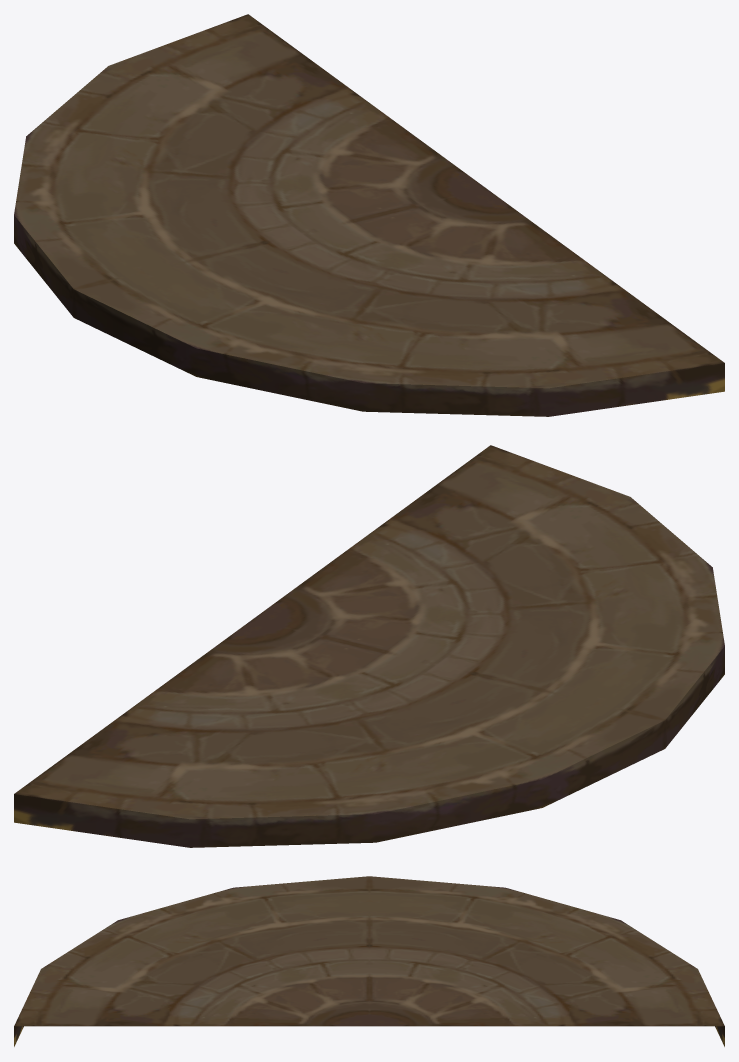
The model's file is stairs_04.fbx.
The picture shows the model from 3 angles, top to bottom: view 1: azimuth 30°, elevation 25°; view 2: azimuth 150°, elevation 25°; view 3: azimuth 270°, elevation 25°; orthographic projection. The views are drawn at different scales.
Parts seen in each view (by area): view 1: stairs_04; view 2: stairs_04; view 3: stairs_04.
Part boxes in pixels (box(x1,y1,x2,y2)): stairs_04: box(14, 14, 724, 416); stairs_04: box(14, 445, 724, 847); stairs_04: box(14, 876, 724, 1046).
Size of the model in its own units: 351 by 23.23 by 702.
